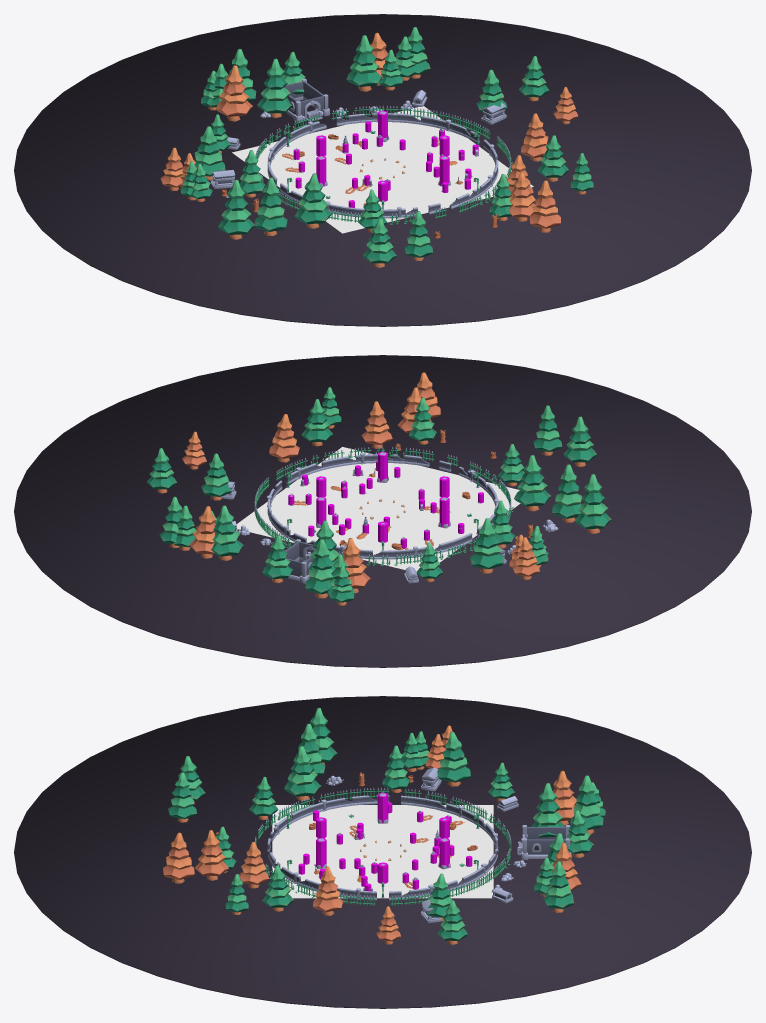
File: ruinas.glb
3 renders of one model, top to bottom at view 1: azimuth 30°, elevation 25°; view 2: azimuth 150°, elevation 25°; view 3: azimuth 270°, elevation 25°, orthographic.
Visible parts, largest first — view 1: GROUND_dirt, static_colormap_graveyard, DECAL_ritual; view 2: GROUND_dirt, static_colormap_graveyard, DECAL_ritual; view 3: GROUND_dirt, static_colormap_graveyard, DECAL_ritual.
Boxes of the visible parts, bbox=[...] form: GROUND_dirt: bbox=[14, 14, 751, 326]; static_colormap_graveyard: bbox=[160, 27, 593, 267]; DECAL_ritual: bbox=[232, 106, 533, 233]; GROUND_dirt: bbox=[14, 355, 751, 667]; static_colormap_graveyard: bbox=[147, 372, 611, 605]; DECAL_ritual: bbox=[236, 447, 520, 572]; GROUND_dirt: bbox=[14, 696, 751, 1008]; static_colormap_graveyard: bbox=[163, 707, 605, 944]; DECAL_ritual: bbox=[272, 805, 493, 898].
Bounding box in the file's own units: 140 × 12.31 × 140.
4 materials, 1 textured.
